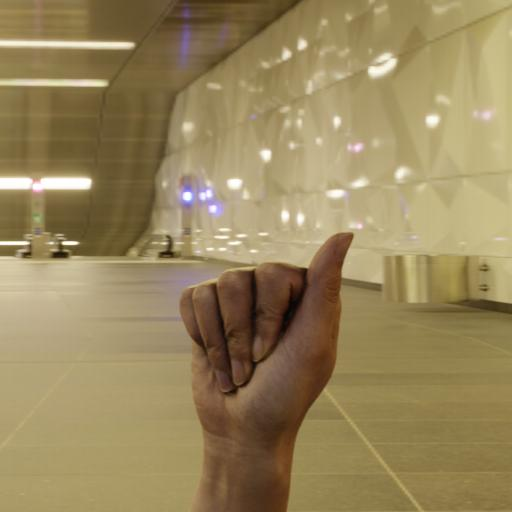A: (149, 230, 403, 499)
